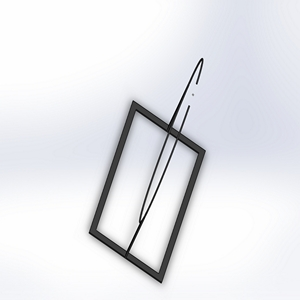circle: (87, 55, 207, 283)
